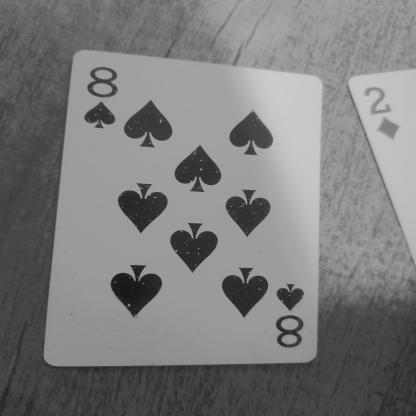2D: (362, 84, 410, 145)
8S: (262, 278, 318, 364), (72, 63, 134, 136)
